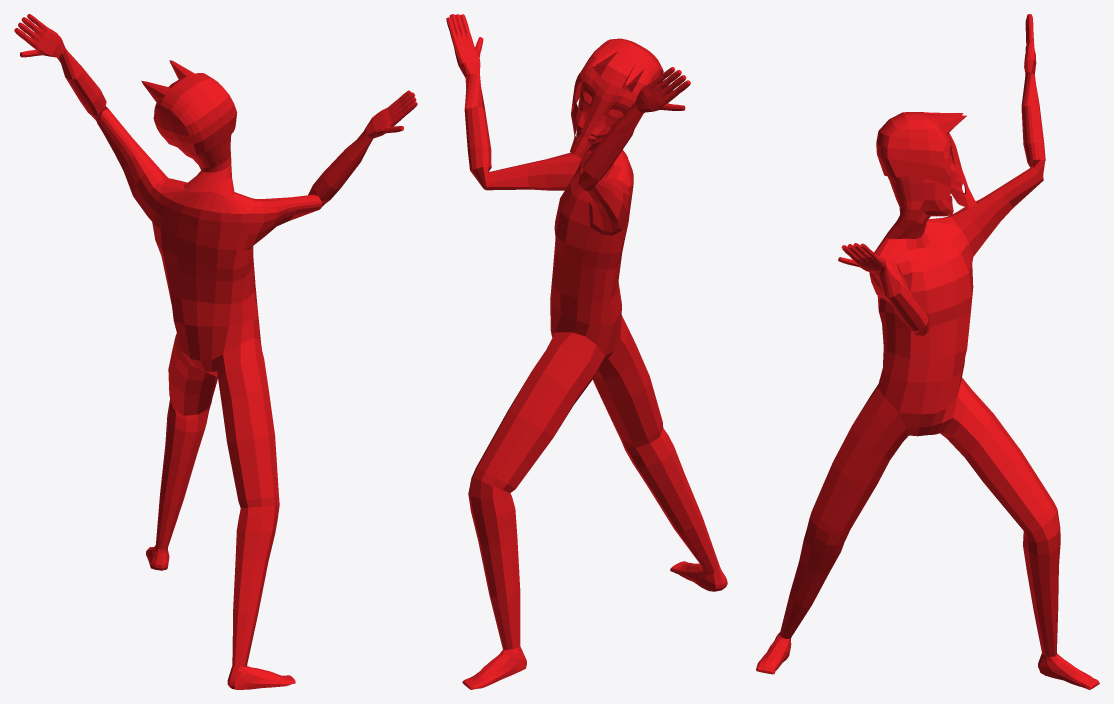
File: activaAlarma_000212.obj
3 renders of one model, left to right at view 1: azimuth 30°, elevation 25°; view 2: azimuth 150°, elevation 25°; view 3: azimuth 270°, elevation 25°, orthographic. The views are drawn at different scales.
Visible parts, largest first — view 1: Plane.002_Plane.001; view 2: Plane.002_Plane.001; view 3: Plane.002_Plane.001.
Boxes of the visible parts, <box> form: Plane.002_Plane.001: <box>14,14,417,689</box>; Plane.002_Plane.001: <box>446,14,727,689</box>; Plane.002_Plane.001: <box>756,14,1099,689</box>.
Size of the model in its own units: 3.97 by 7.31 by 3.8.
